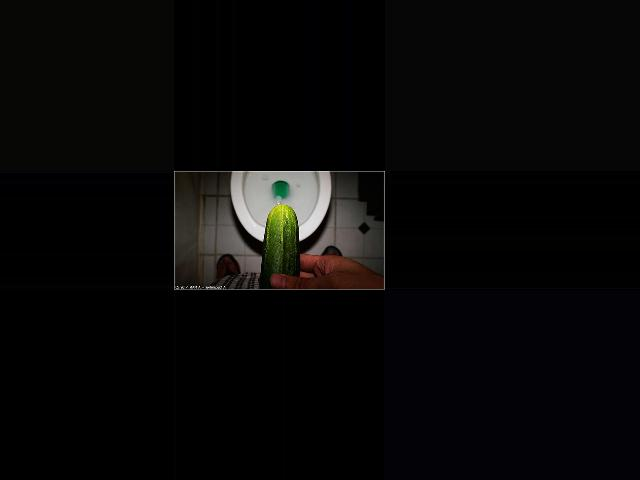cucumber: (259, 205, 298, 290)
